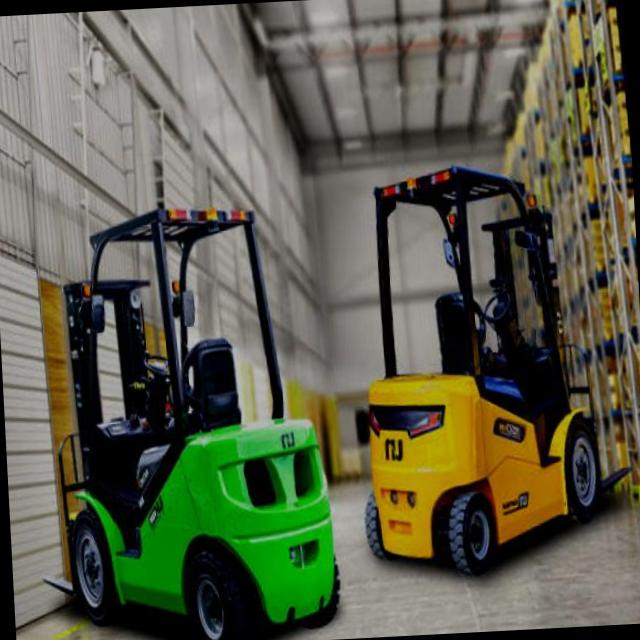forklift: (25, 173, 354, 640), (323, 134, 628, 588)
